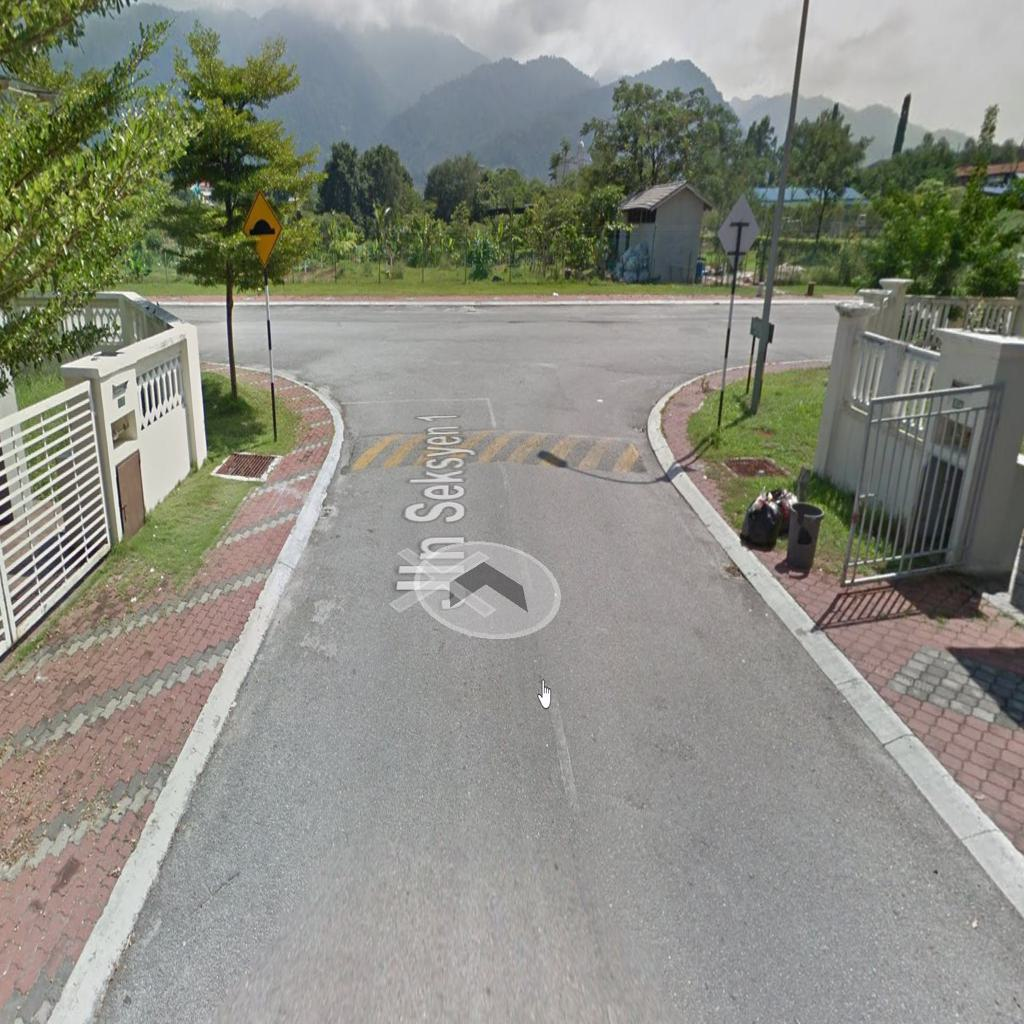Junction: (183, 277, 368, 461), (633, 296, 832, 456)
